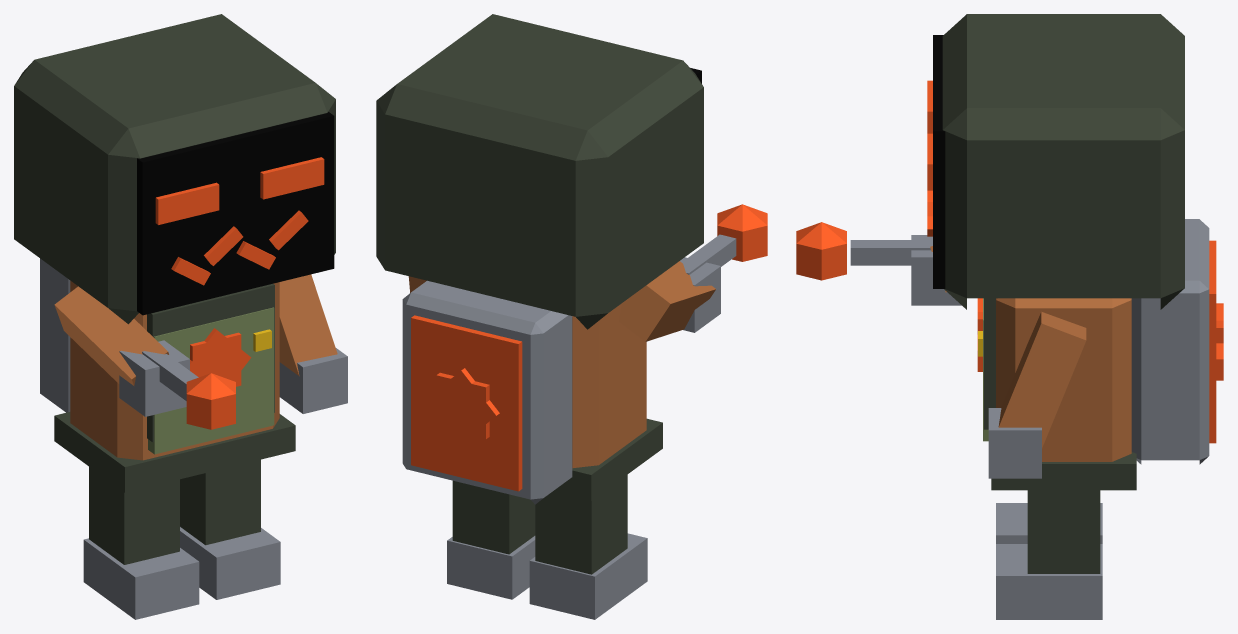
The model's file is medic_enemy_r7.glb.
3 renders of one model, left to right at view 1: azimuth 30°, elevation 25°; view 2: azimuth 150°, elevation 25°; view 3: azimuth 270°, elevation 25°, orthographic. The views are drawn at different scales.
Visible parts, largest first — view 1: medic_enemy_r7_mesh; view 2: medic_enemy_r7_mesh; view 3: medic_enemy_r7_mesh.
Part boxes in pixels (x1,y1,x2,y2): medic_enemy_r7_mesh: (14,14,347,619); medic_enemy_r7_mesh: (376,14,767,619); medic_enemy_r7_mesh: (796,14,1223,619).
Size of the model in its own units: 0.8078 by 1.5 by 1.11.
Materials: 1 (1 with a texture image).
